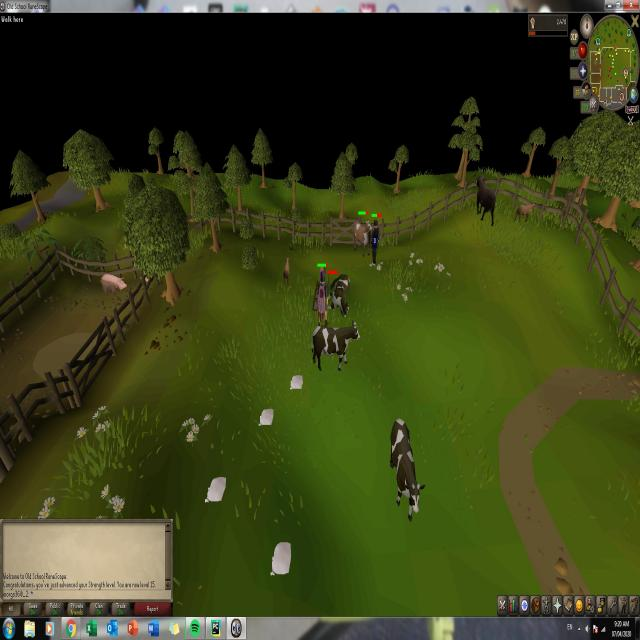cow: (387, 412, 422, 526), (309, 319, 359, 372), (326, 265, 351, 319), (474, 174, 496, 225), (353, 219, 371, 257), (513, 202, 535, 225), (282, 255, 291, 287)
player: (315, 266, 327, 322)
